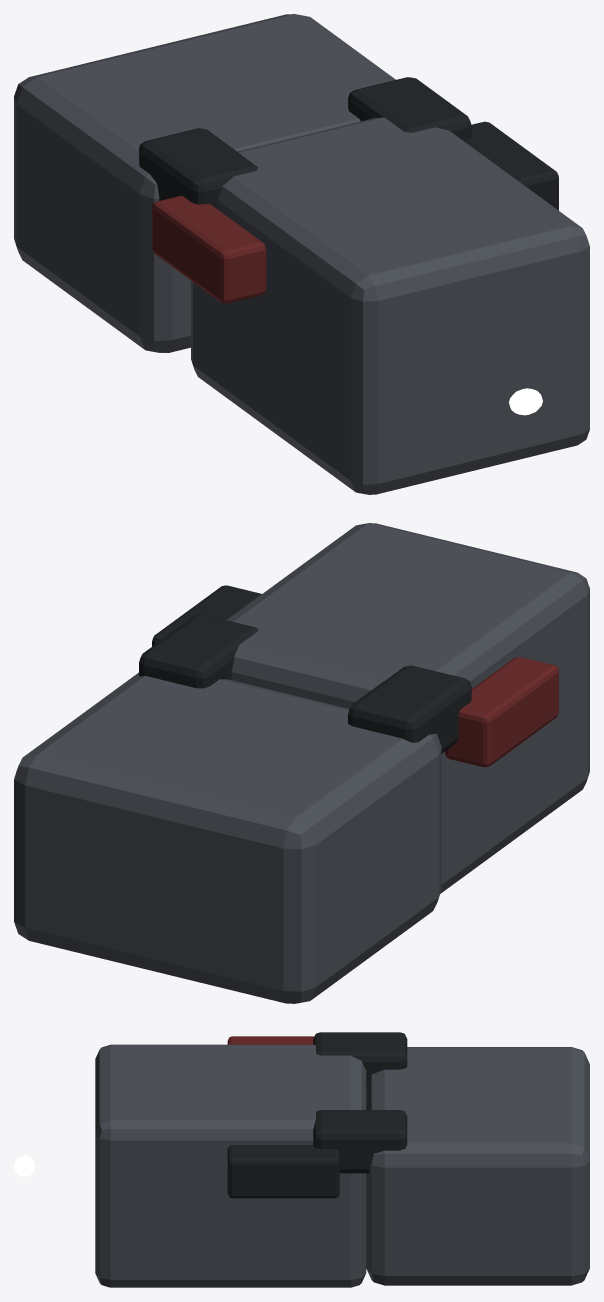
3 renders of one model, top to bottom at view 1: azimuth 30°, elevation 25°; view 2: azimuth 150°, elevation 25°; view 3: azimuth 270°, elevation 25°, orthographic. The views are drawn at different scales.
Visible parts, largest first — view 1: RIMWARD_HULL, RIMWARD_ENGINE_GLOW; view 2: RIMWARD_HULL; view 3: RIMWARD_HULL, RIMWARD_ENGINE_GLOW.
Boxes of the visible parts, bbox=[...] form: RIMWARD_HULL: bbox=[14, 14, 589, 494]; RIMWARD_ENGINE_GLOW: bbox=[509, 388, 542, 415]; RIMWARD_HULL: bbox=[14, 523, 589, 1003]; RIMWARD_HULL: bbox=[95, 1032, 589, 1287]; RIMWARD_ENGINE_GLOW: bbox=[14, 1155, 34, 1176].
Size of the model in its own units: 8.58 by 5.37 by 16.63.
